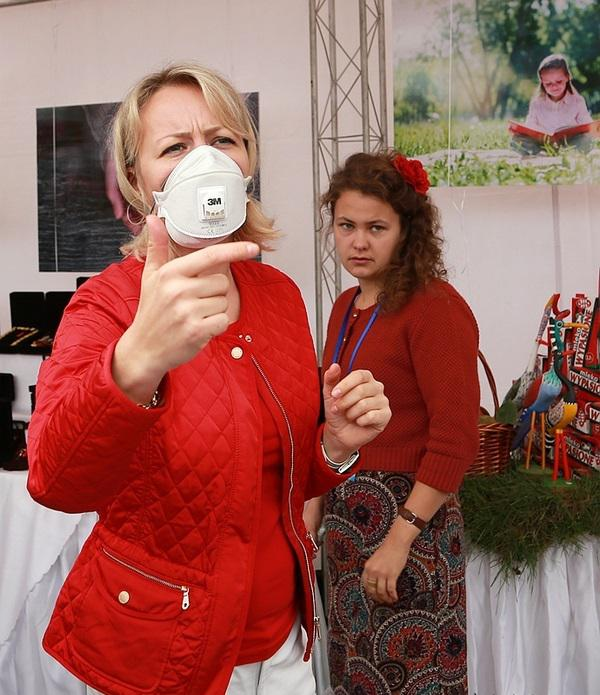NONE: (338, 206, 398, 274), (546, 74, 570, 98)
OK: (145, 122, 270, 247)
